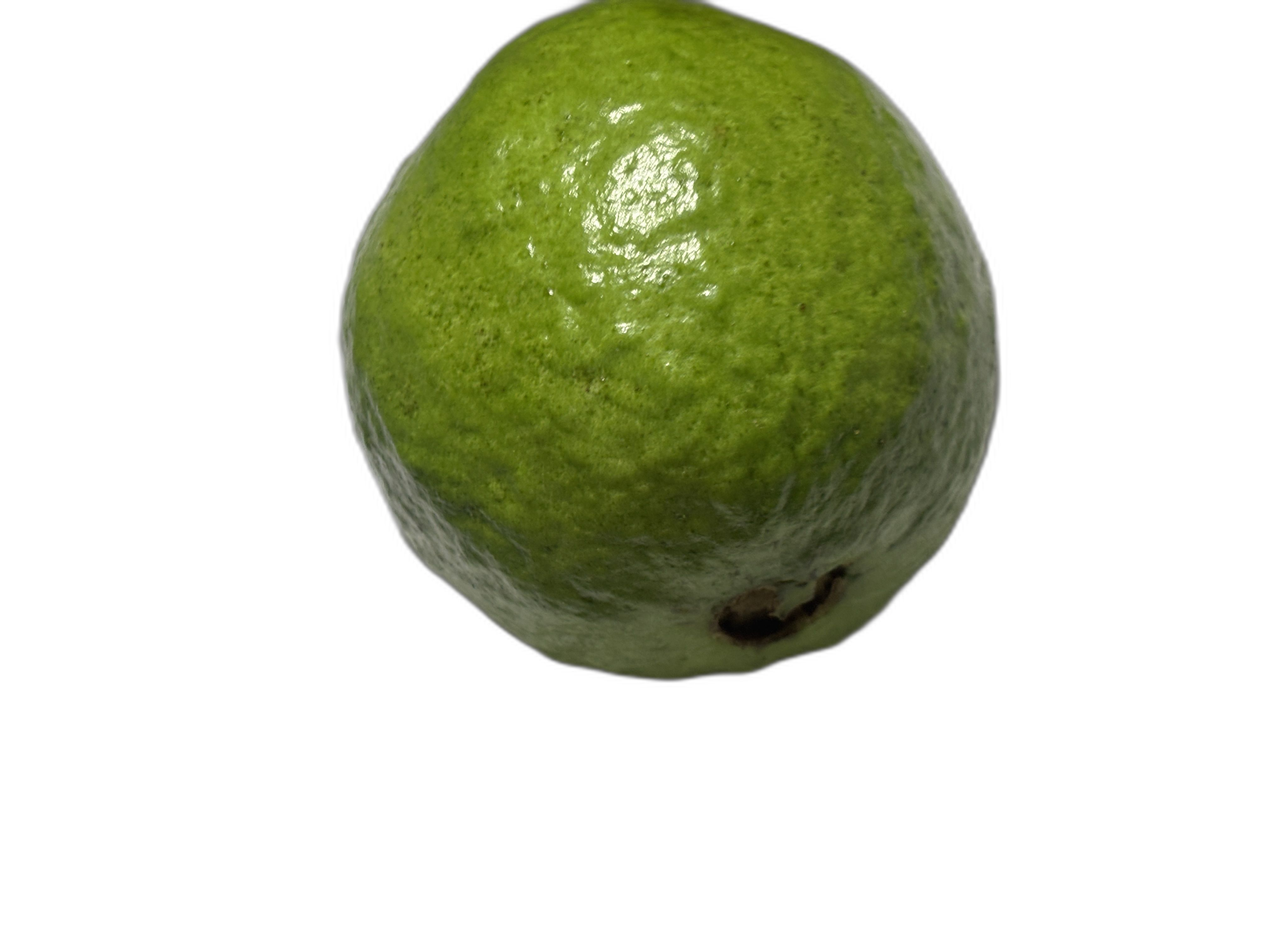guava: (254, 227, 1136, 813)
